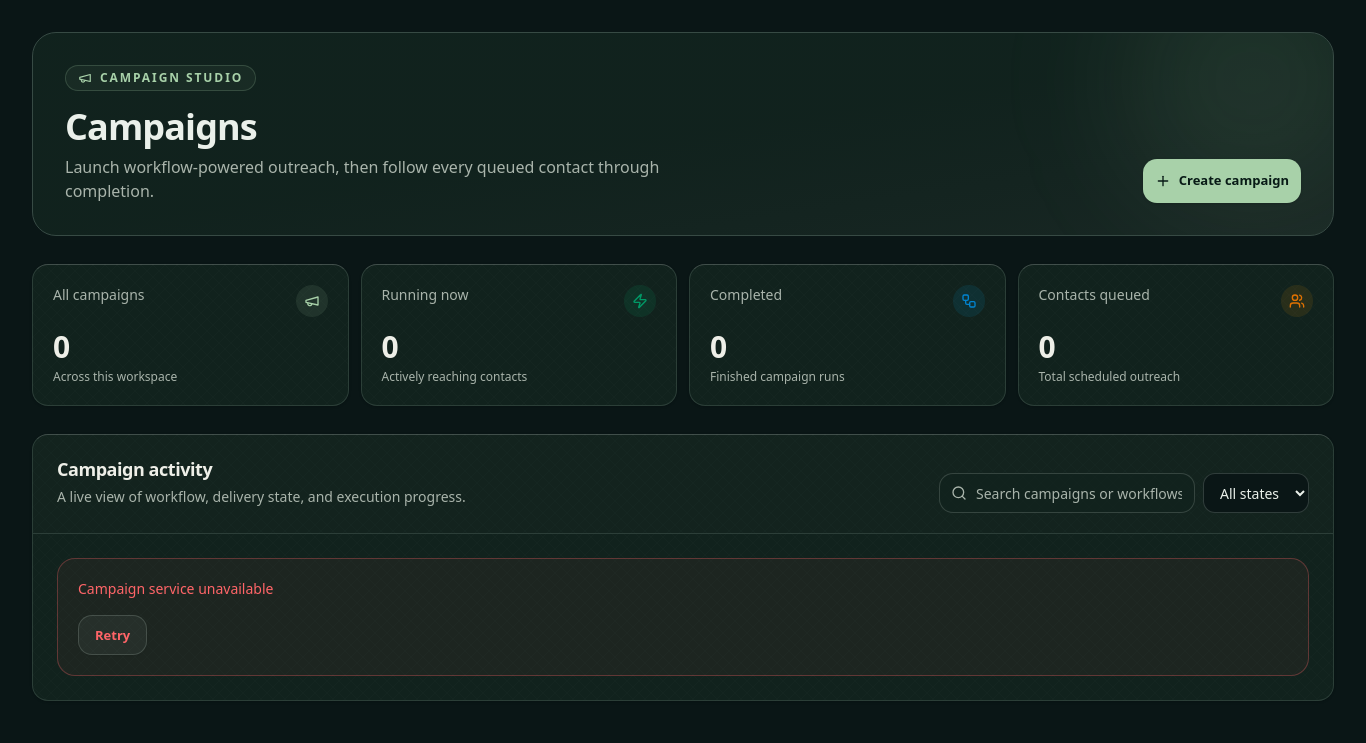
Test: shows a resolved API failure and retries without pretending the campaign list is empty
Expected: the message shows "Campaign service unavailable", left=78, top=579, right=274, bottom=598
Click the button "Retry" at (113, 635), box left=78, top=615, right=147, bottom=655
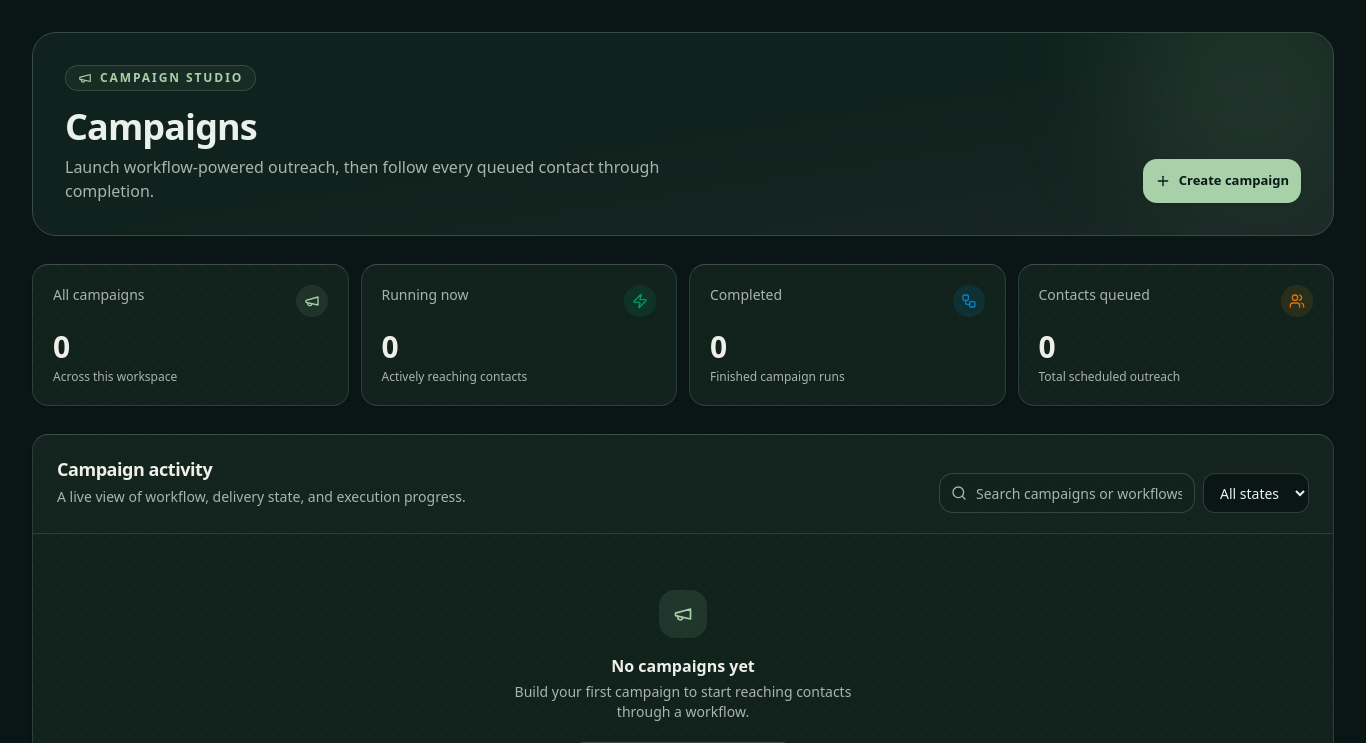
Expected: the heading "No campaigns yet" is shown, left=611, top=655, right=755, bottom=677
